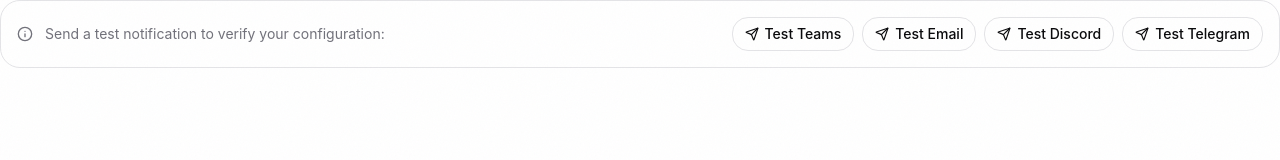
Test case: NotificationTestButtons › should disable all buttons while a test is in progress
The image size is (1280, 160).
Click the button "Test Discord" at (1049, 34), box [984,17,1114,51]
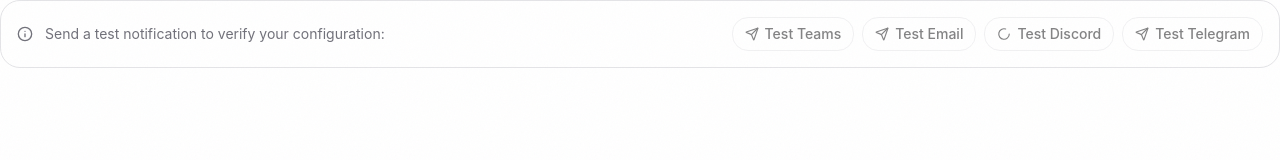
Check: the button "Test Teams" is disabled, box [732,17,854,51]
Check: the button "Test Email" is disabled, box [862,17,976,51]
Check: the button "Test Discord" is disabled, box [984,17,1114,51]
